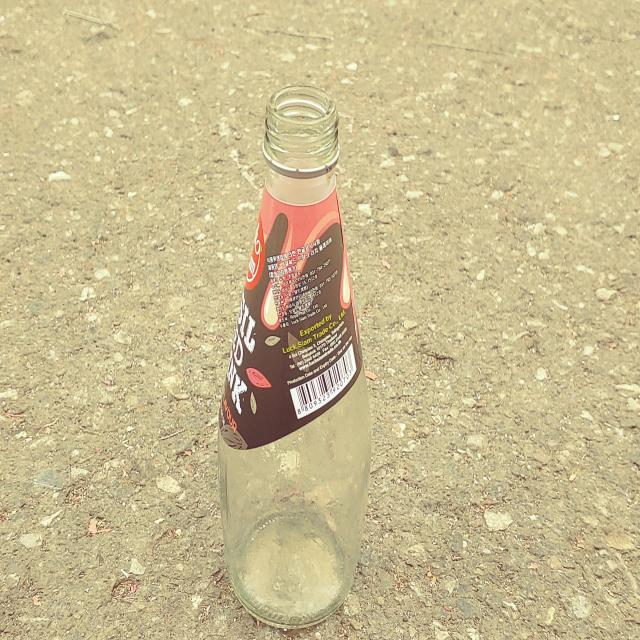glass: (218, 85, 371, 630)
